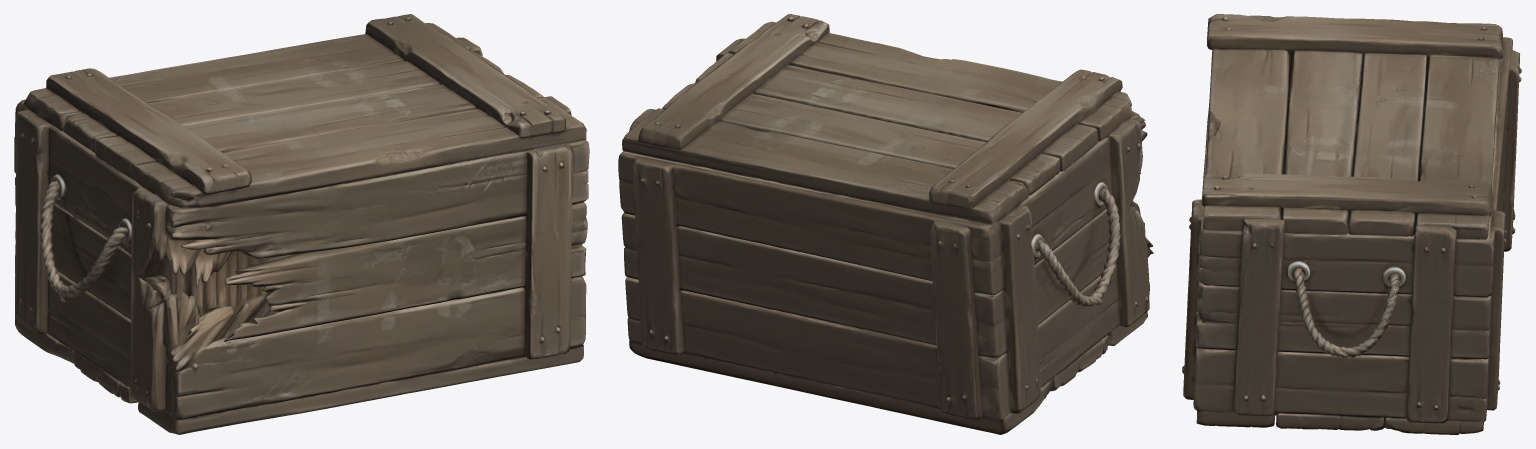
File: silo81_crate.glb
The picture shows the model from 3 angles, left to right: view 1: azimuth 30°, elevation 25°; view 2: azimuth 150°, elevation 25°; view 3: azimuth 270°, elevation 25°; orthographic projection. The views are drawn at different scales.
Visible parts, largest first — view 1: tripo_node_a0d10f30-97d6-49d1-9a2d-1bdd91ca9af7; view 2: tripo_node_a0d10f30-97d6-49d1-9a2d-1bdd91ca9af7; view 3: tripo_node_a0d10f30-97d6-49d1-9a2d-1bdd91ca9af7.
Boxes of the visible parts, bbox=[...] form: tripo_node_a0d10f30-97d6-49d1-9a2d-1bdd91ca9af7: bbox=[14, 14, 589, 434]; tripo_node_a0d10f30-97d6-49d1-9a2d-1bdd91ca9af7: bbox=[618, 14, 1153, 434]; tripo_node_a0d10f30-97d6-49d1-9a2d-1bdd91ca9af7: bbox=[1182, 14, 1521, 434].
Size of the model in its own units: 0.9806 by 0.5616 by 0.6732.
1 material, 1 textured.
